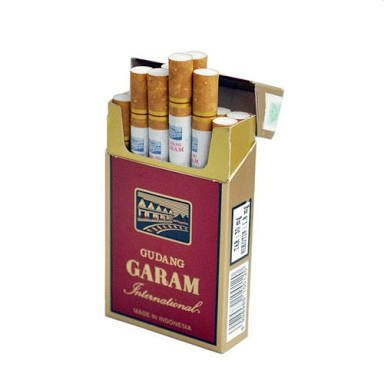garam filter: (81, 60, 283, 356)
